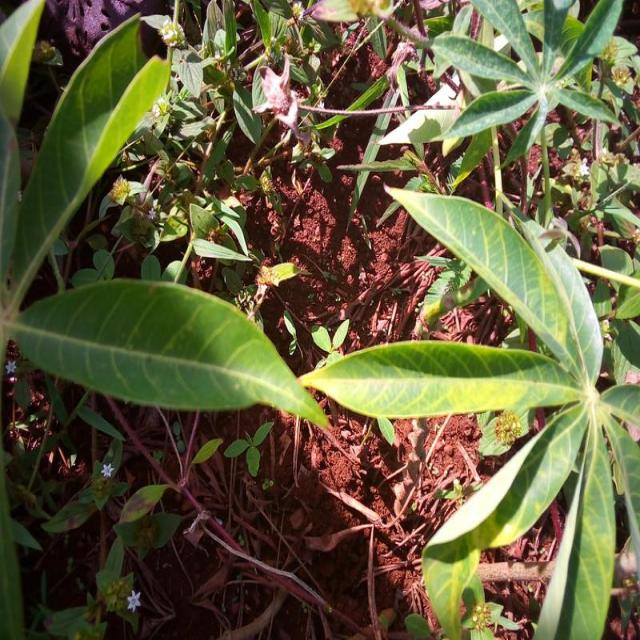cassava leaf: (296, 180, 638, 638), (6, 11, 172, 312), (7, 276, 330, 429), (380, 180, 600, 386), (296, 337, 582, 419)
